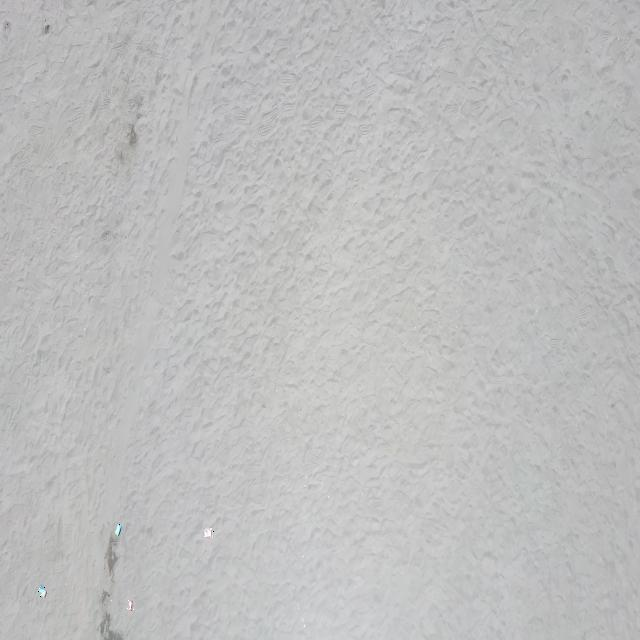Garbage: (36, 584, 44, 596), (203, 527, 211, 536), (114, 523, 120, 535), (127, 600, 132, 611)
